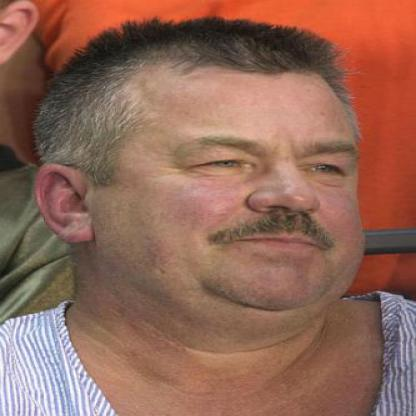face: (86, 24, 387, 334)
